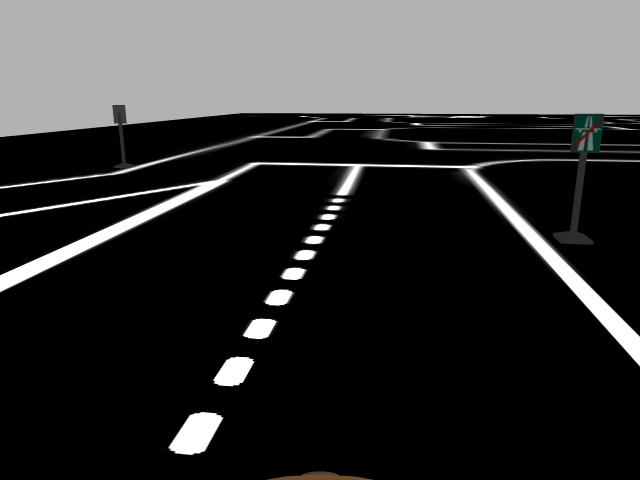leave_highway: (567, 112, 604, 155)
